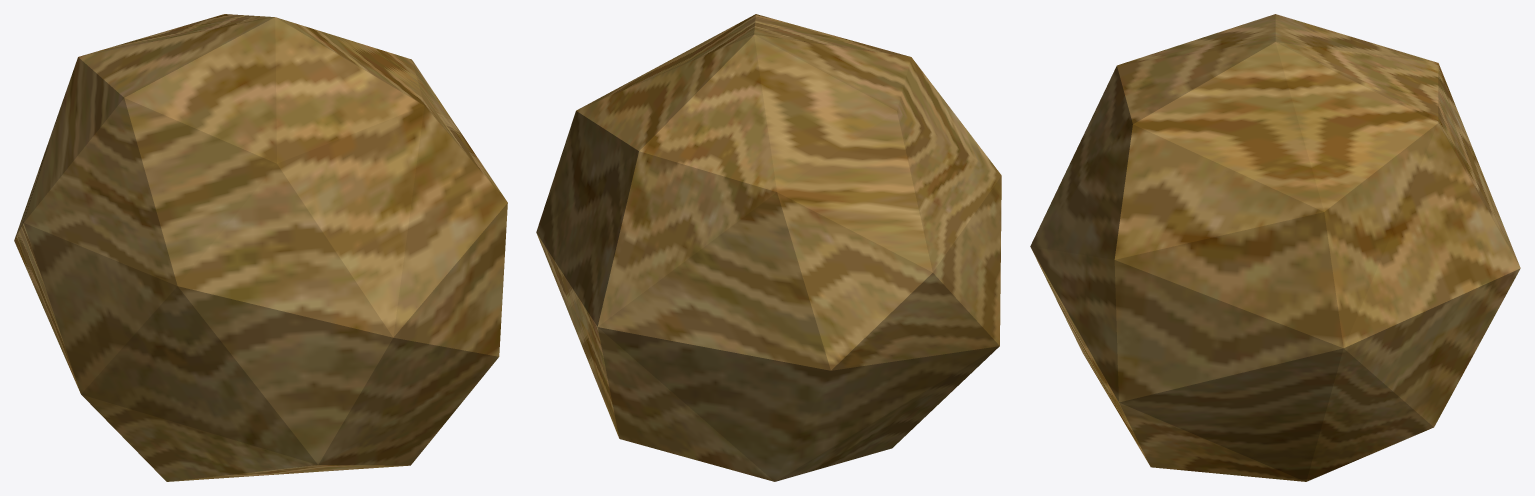
The model's file is donkey_course-rock.glb.
The picture shows the model from 3 angles, left to right: view 1: azimuth 30°, elevation 25°; view 2: azimuth 150°, elevation 25°; view 3: azimuth 270°, elevation 25°; orthographic projection. The views are drawn at different scales.
Visible parts, largest first — view 1: rock; view 2: rock; view 3: rock.
Part boxes in pixels (x1,y1,x2,y2): rock: [14, 14, 507, 481]; rock: [536, 14, 1001, 481]; rock: [1030, 14, 1520, 481].
Size of the model in its own units: 3.55 by 3.56 by 3.79.
Materials: 1 (1 with a texture image).
